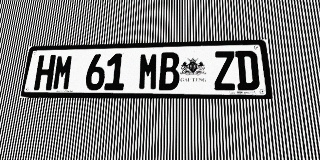1: (104, 53, 126, 90)
6: (85, 54, 107, 90)
B: (159, 52, 179, 90)
D: (235, 50, 260, 90)
H: (33, 55, 56, 90)
M: (138, 53, 159, 90), (52, 55, 74, 90)
Z: (213, 51, 236, 90)
